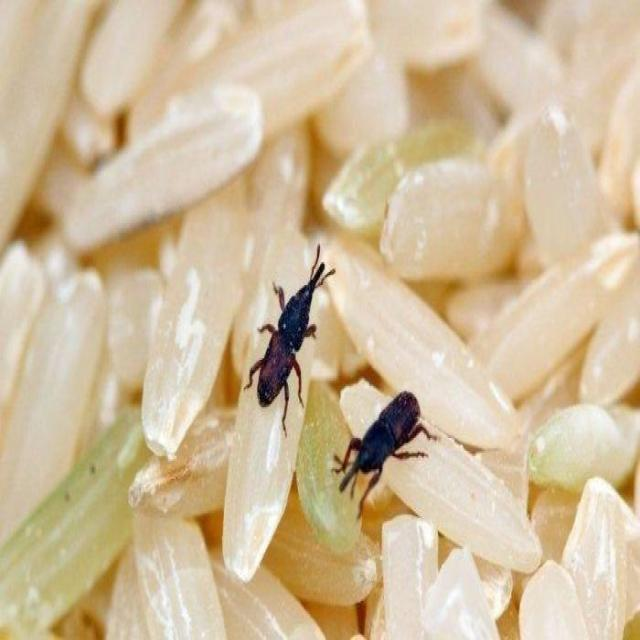Kutu_beras: (236, 235, 339, 438), (326, 389, 439, 526)
